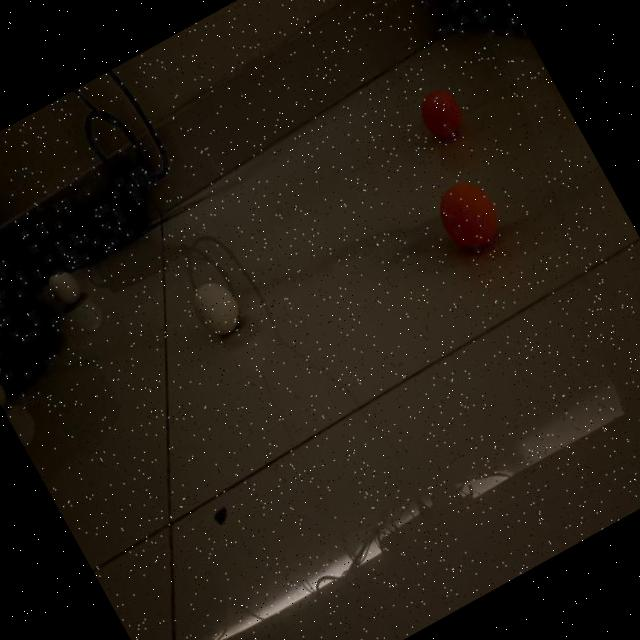ping-pong-ball: (428, 171, 509, 258), (184, 275, 250, 344), (412, 80, 470, 143), (46, 265, 86, 310), (0, 366, 14, 412)
